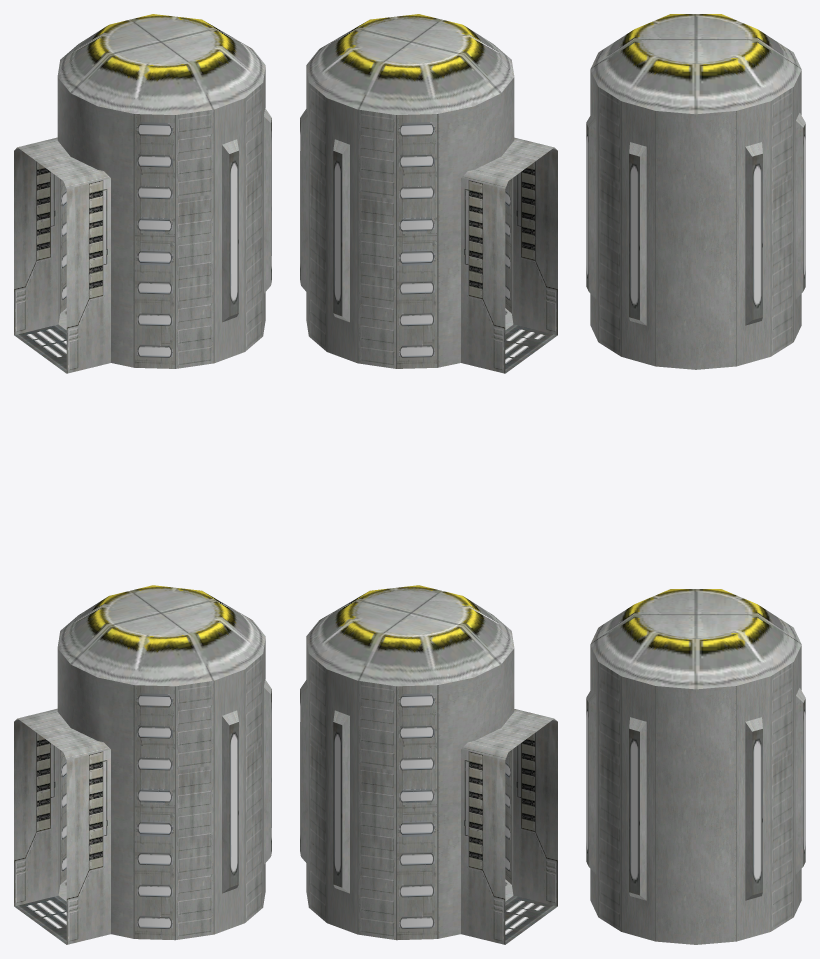
The model's file is thm_tato_fallen_star_r26_elevator01_mesh_r26.fbx.
The picture shows the model from 3 angles, left to right: view 1: azimuth 30°, elevation 25°; view 2: azimuth 150°, elevation 25°; view 3: azimuth 270°, elevation 25°; orthographic projection.
Visible parts, largest first — view 1: mesh_node; view 2: mesh_node; view 3: mesh_node.
Boxes of the visible parts, x1,y1,x2,y2 form: mesh_node: (14, 14, 271, 944); mesh_node: (300, 14, 557, 944); mesh_node: (586, 14, 805, 944).
Size of the model in its own units: 3.5 by 13.46 by 3.12.
